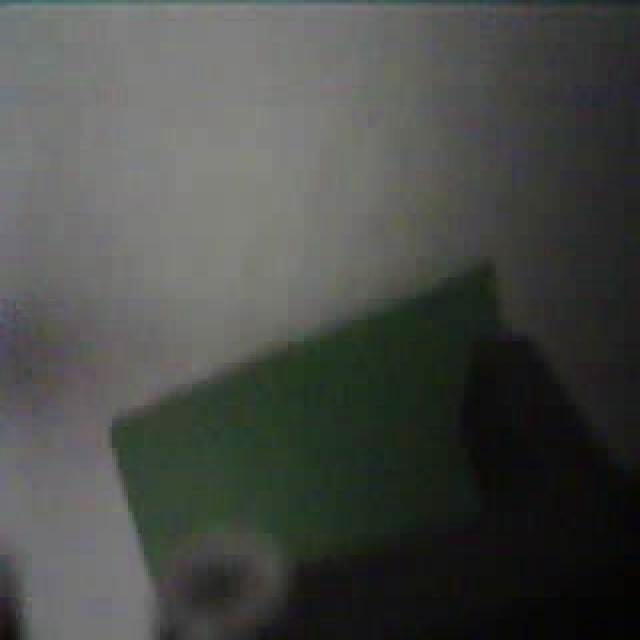green_box: (105, 260, 561, 634)
